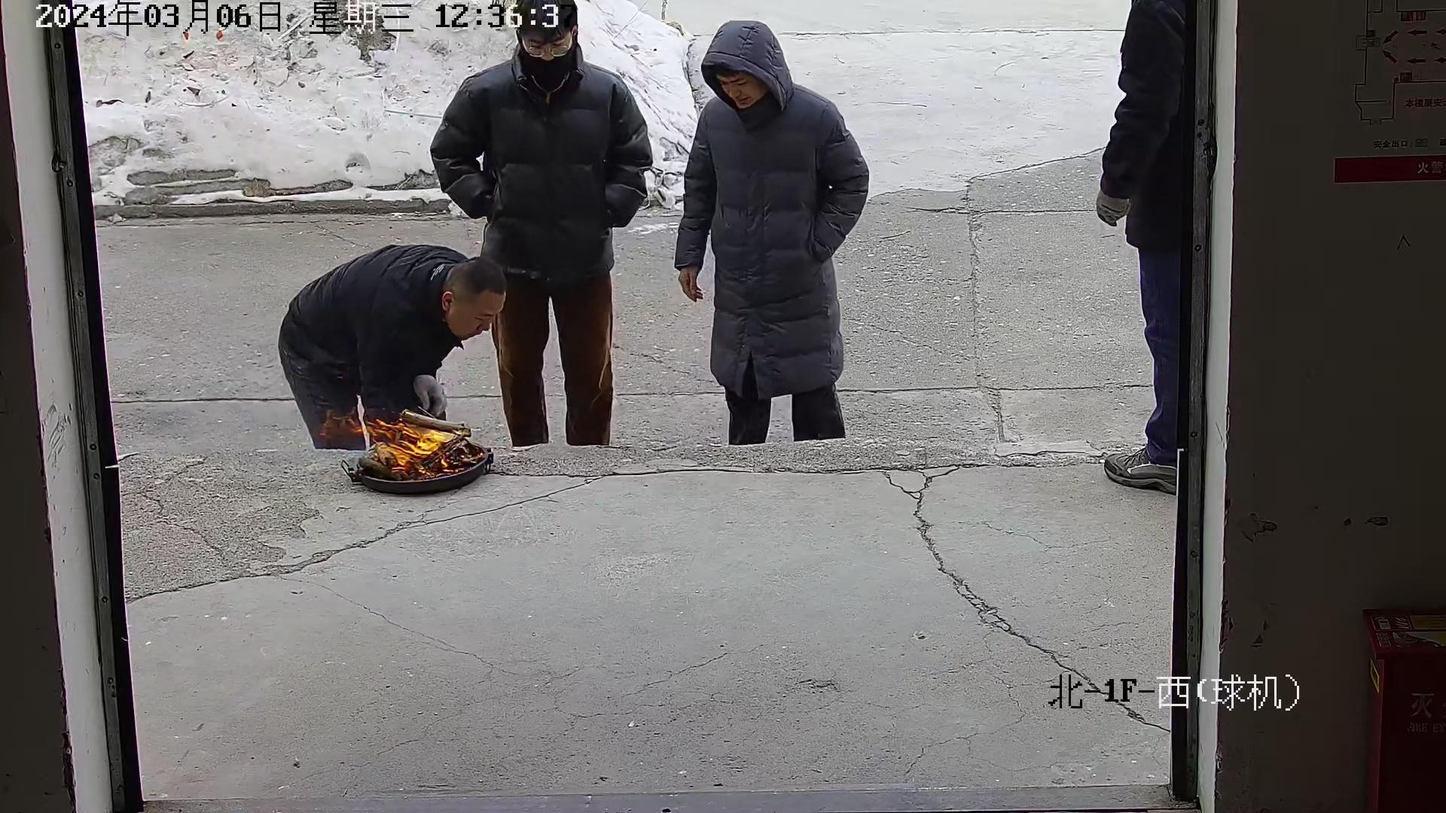fire: (322, 410, 469, 478)
